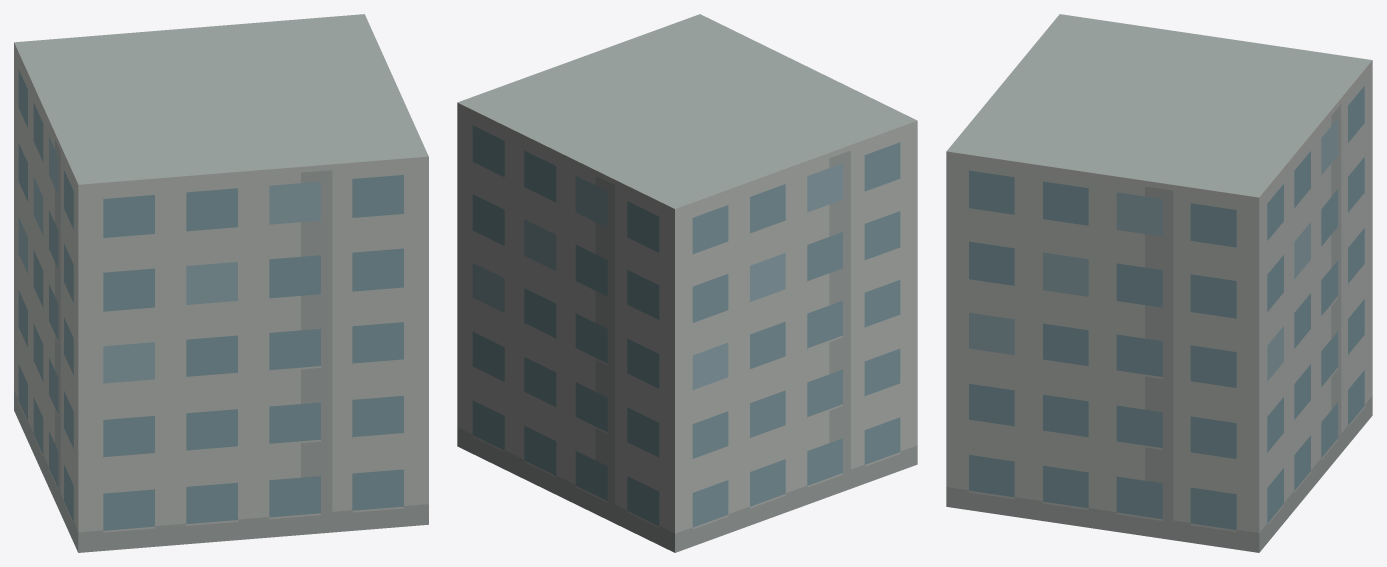
File: residential-afae0fe3-f836-49f9-a6af-186dee7e8dd2.glb
The picture shows the model from 3 angles, left to right: view 1: azimuth 30°, elevation 25°; view 2: azimuth 150°, elevation 25°; view 3: azimuth 270°, elevation 25°; orthographic projection. The views are drawn at different scales.
Parts seen in each view (by area): view 1: residential-afae0fe3-f836-49f9-a6af-186dee7e8dd2.tmp; view 2: residential-afae0fe3-f836-49f9-a6af-186dee7e8dd2.tmp; view 3: residential-afae0fe3-f836-49f9-a6af-186dee7e8dd2.tmp.
Part boxes in pixels (box(x1,y1,x2,y2)): residential-afae0fe3-f836-49f9-a6af-186dee7e8dd2.tmp: box(14, 14, 428, 552); residential-afae0fe3-f836-49f9-a6af-186dee7e8dd2.tmp: box(457, 14, 917, 552); residential-afae0fe3-f836-49f9-a6af-186dee7e8dd2.tmp: box(946, 14, 1372, 552).
Size of the model in its own units: 16.9 by 15.25 by 16.59.
